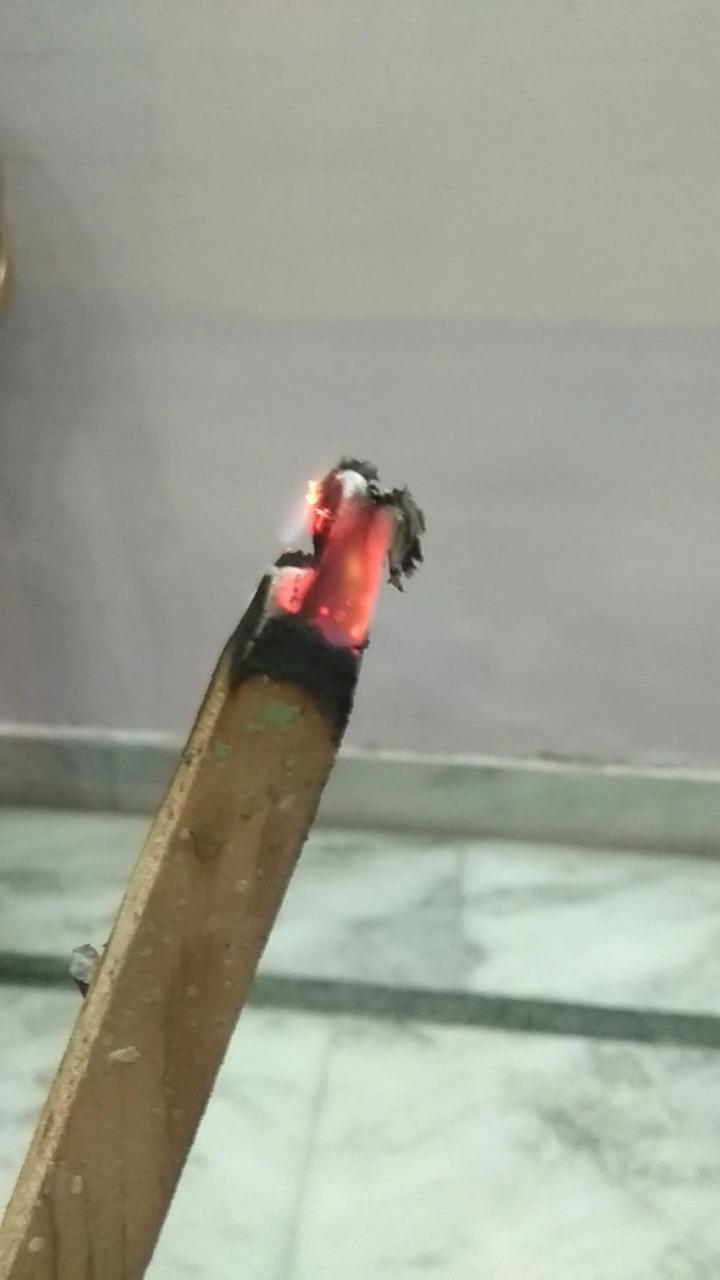fire: (274, 443, 400, 647)
